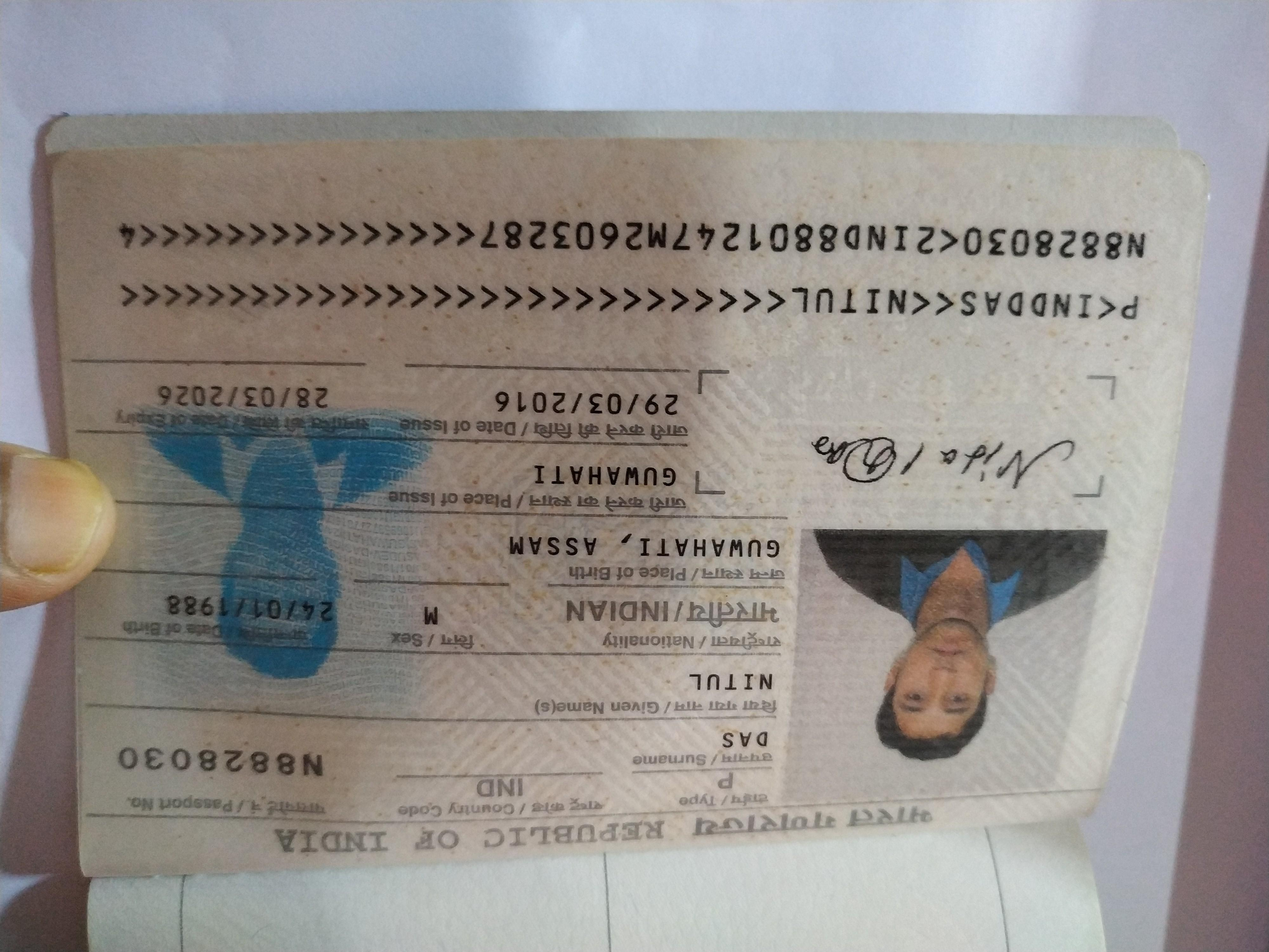DOB: (915, 317, 1123, 371)
Surname: (495, 200, 584, 228)
country_code: (725, 149, 812, 188)
date_of_expiry: (920, 530, 1120, 583)
date_of_issue: (573, 527, 795, 574)
details: (97, 605, 1165, 747)
name: (489, 251, 598, 287)
nationality: (482, 317, 719, 362)
passport_no: (934, 159, 1164, 227)
photo: (201, 163, 463, 422)
place_of_birth: (485, 381, 776, 425)
place_of_issue: (582, 452, 753, 494)
sex: (820, 314, 862, 365)
sign: (206, 451, 481, 536)
type: (516, 159, 573, 186)
